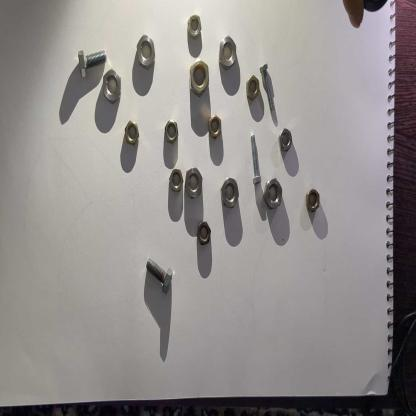Bolts: (142, 254, 176, 293), (76, 44, 108, 80), (258, 62, 276, 115), (247, 133, 262, 188)
NUTS: (188, 57, 210, 97), (217, 30, 239, 70), (102, 66, 122, 109), (134, 32, 156, 71), (263, 178, 285, 213), (184, 164, 205, 200), (221, 174, 239, 214), (196, 214, 214, 252), (167, 164, 185, 200), (304, 182, 322, 216), (161, 118, 182, 146), (124, 116, 140, 152), (243, 74, 260, 105), (277, 126, 295, 155), (206, 113, 224, 141), (188, 13, 202, 39)
